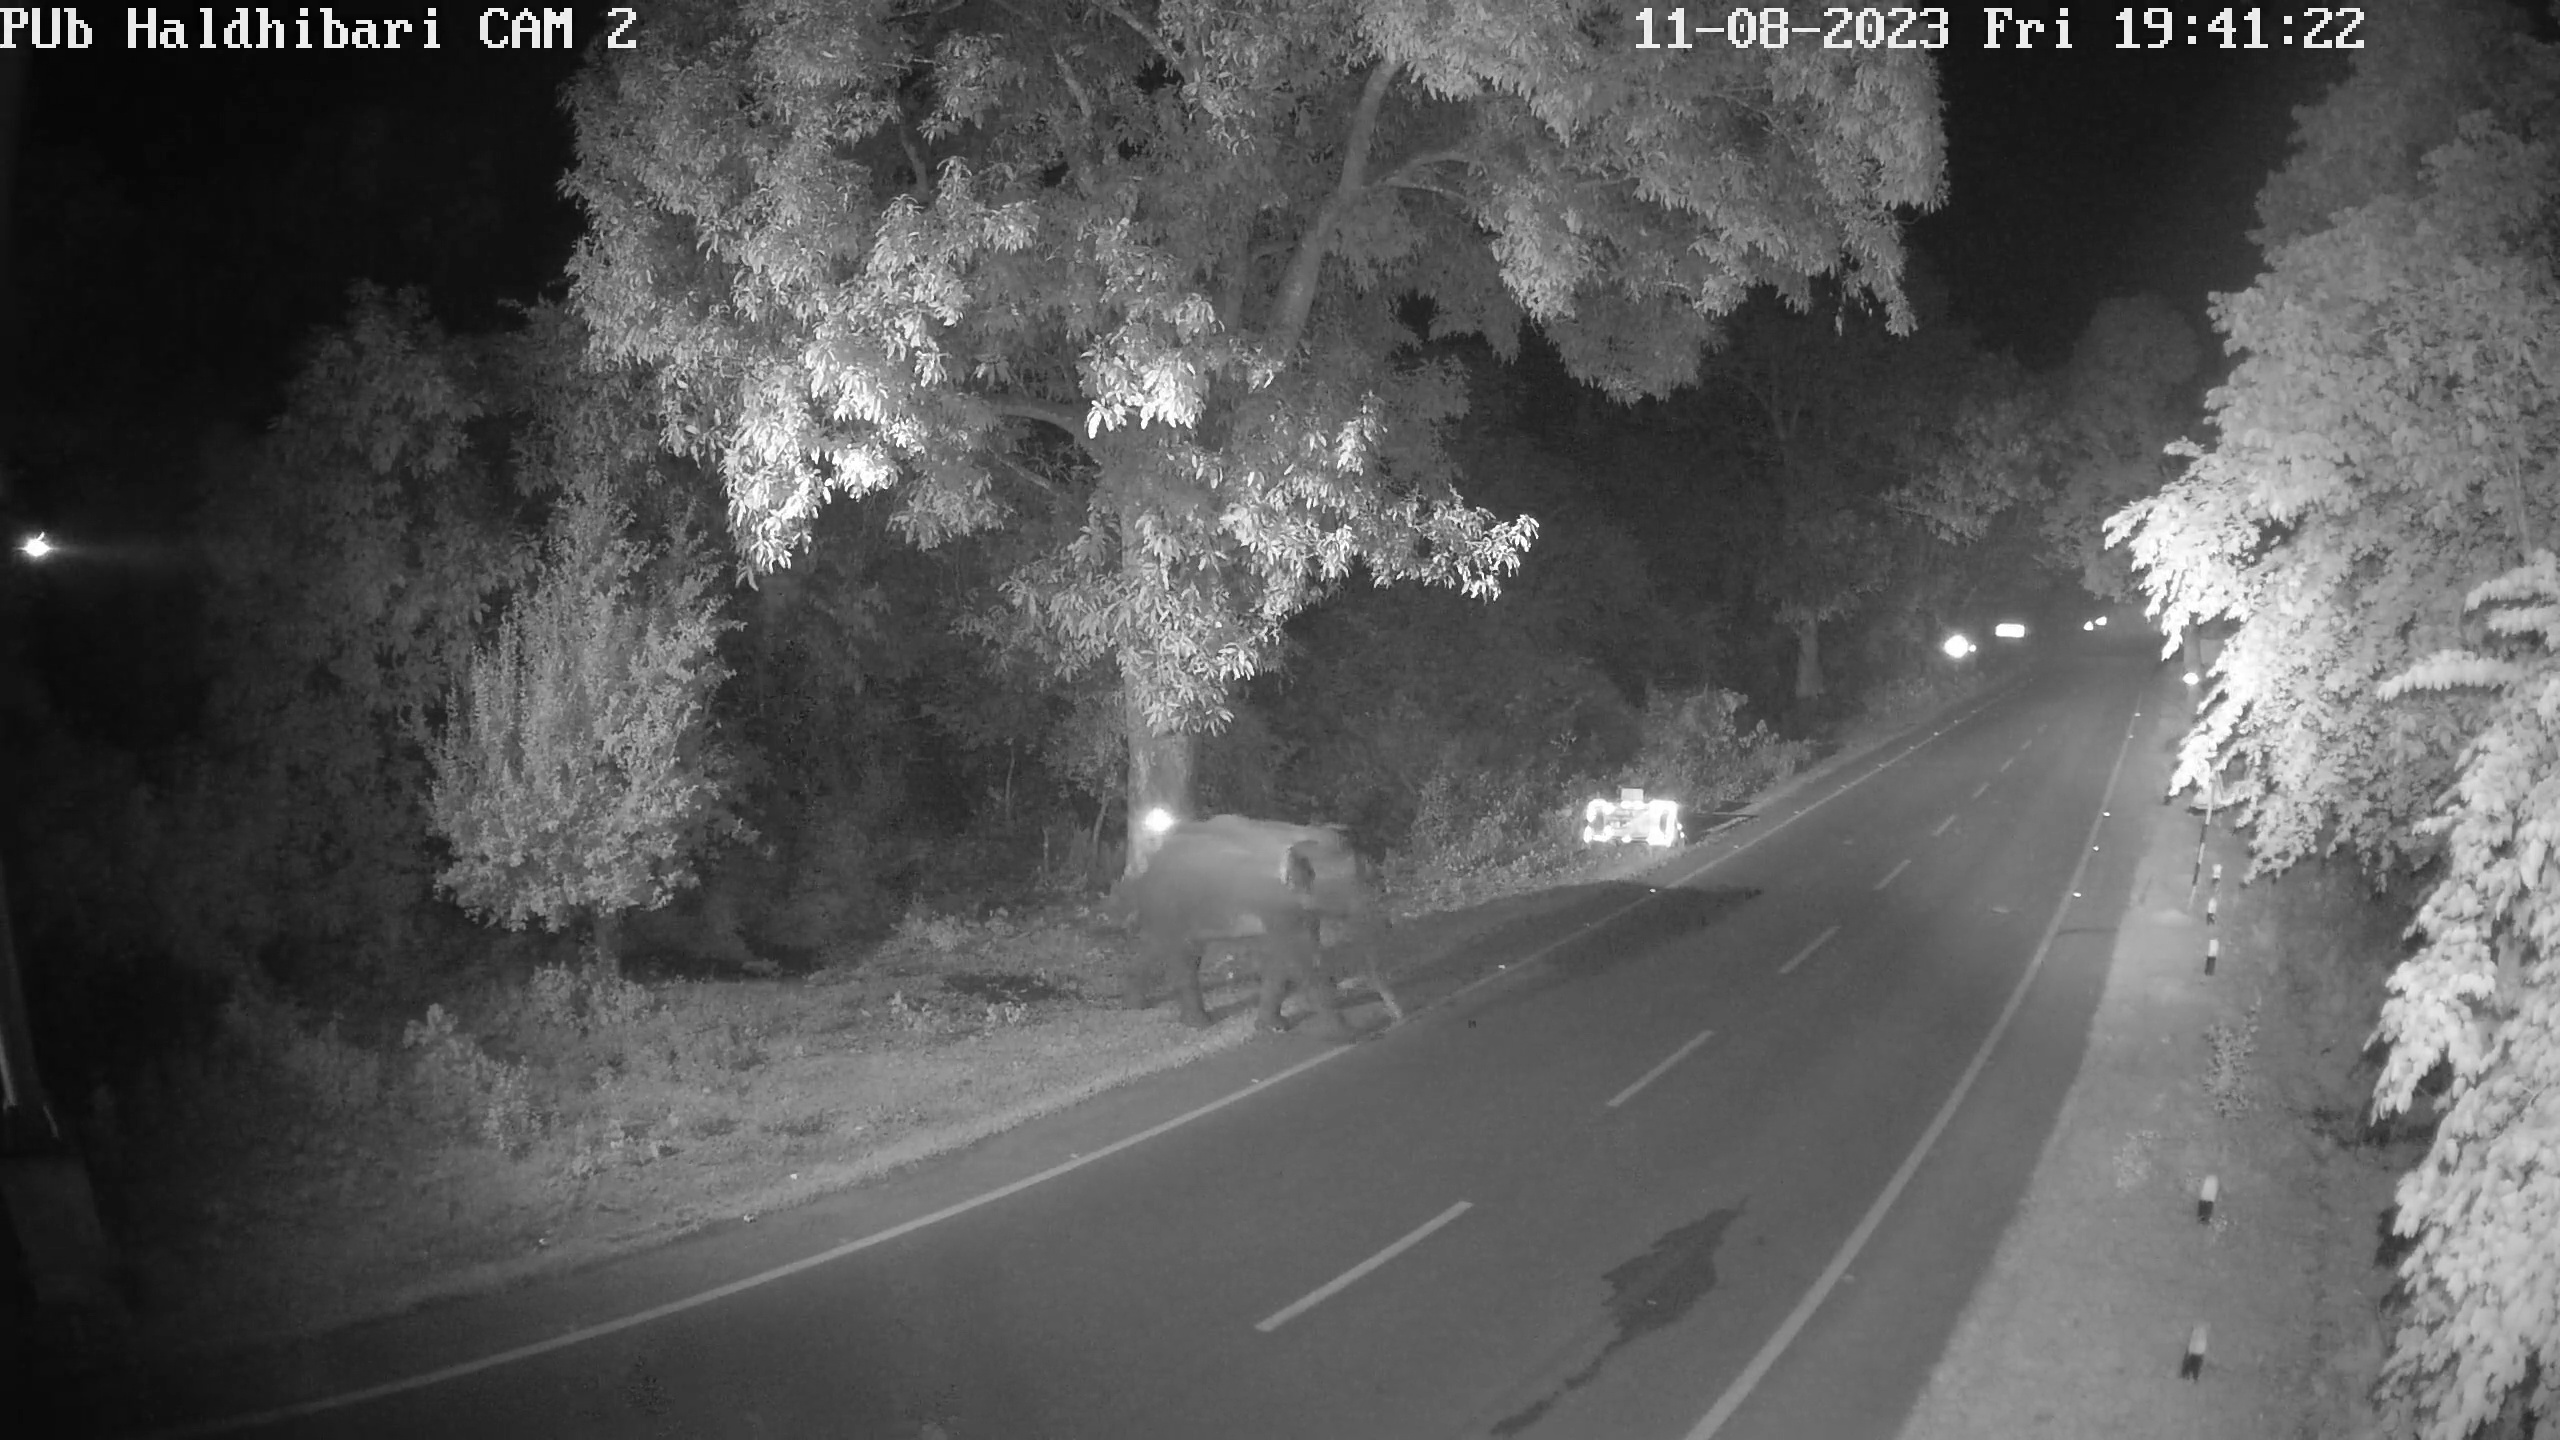elephants: (1136, 811, 1403, 1036)
